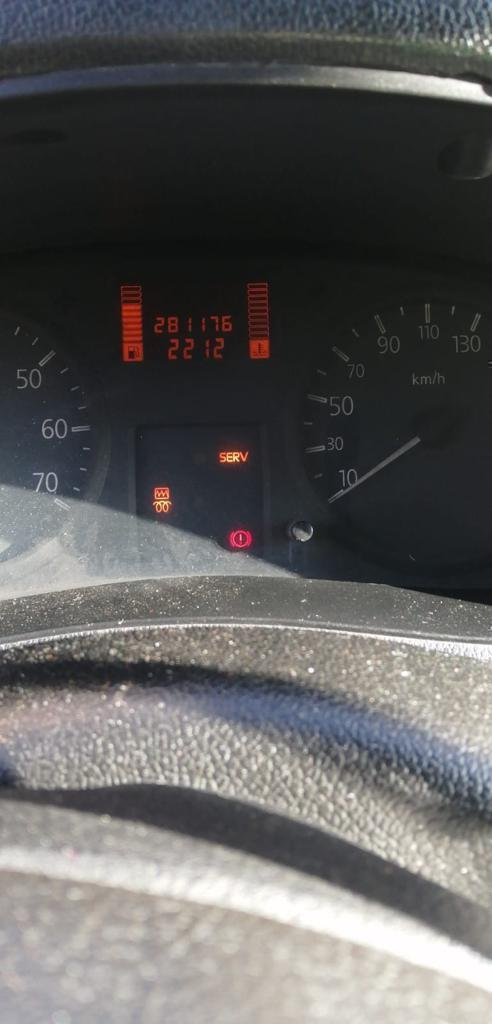1: (203, 338, 211, 359), (199, 316, 207, 333), (185, 316, 193, 332)
2: (180, 337, 195, 360), (166, 337, 180, 360), (211, 337, 225, 359), (153, 316, 165, 333)
6: (220, 315, 232, 332)
7: (209, 314, 219, 332)
8: (166, 316, 179, 333)
odometer: (104, 272, 289, 371)
